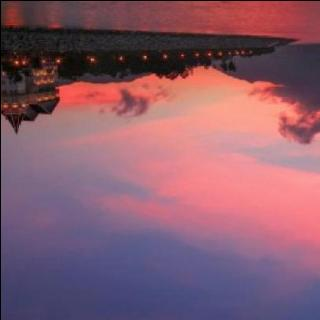Cirrostratus: (37, 111, 320, 320)
